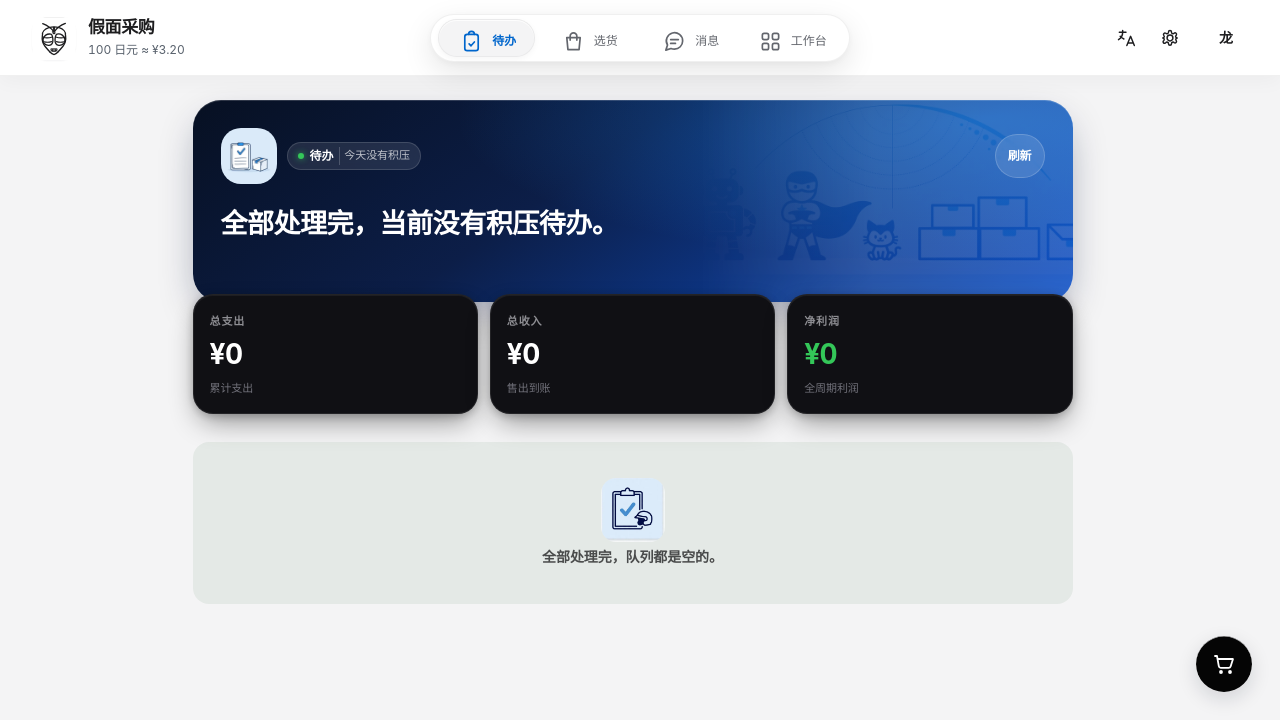
Scenario: Dashboard load error states › shows a retryable error when the catalog load fails, and recovers on retry
The width and height of the screenshot is (1280, 720).
Click the button with aria-label "选货". click: {"x": 589, "y": 41}
box: x1=538 y1=19 x2=640 y2=63
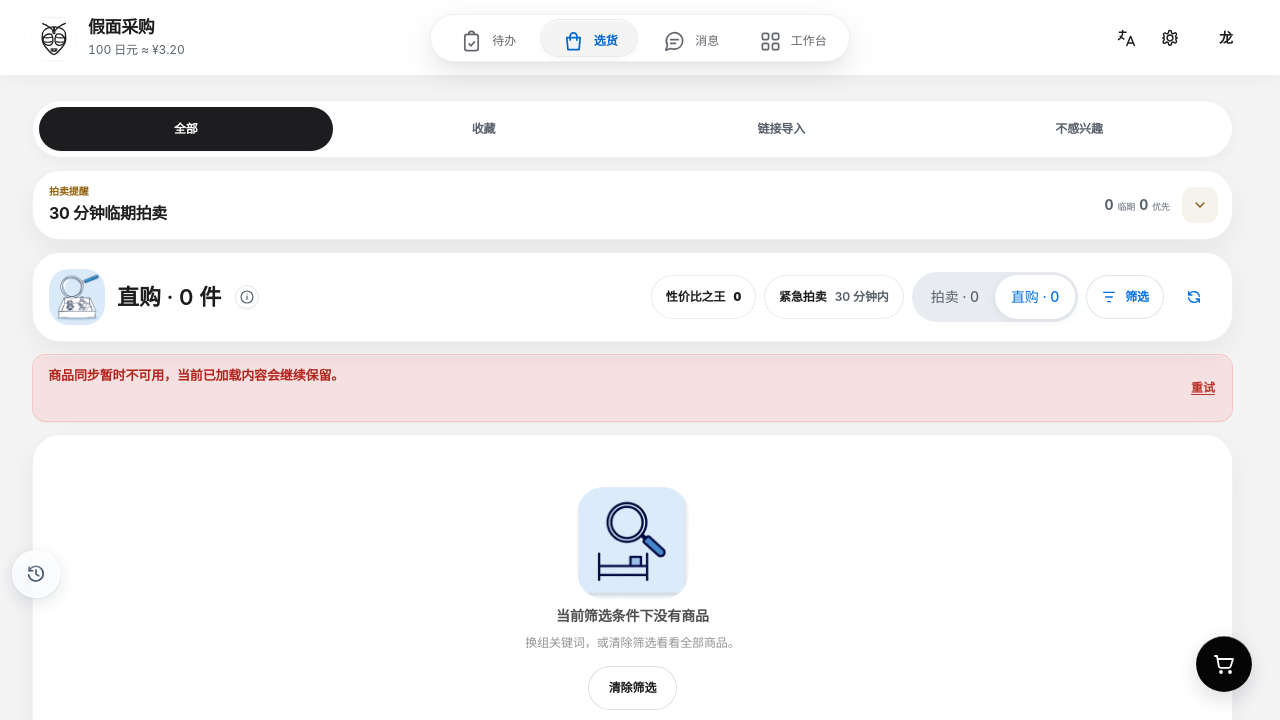
Expected: the element named "在售商品类型" is shown, x1=912 y1=272 x2=1078 y2=322
Expected: the message "商品同步暂时不可用，当前已加载内容会继续保留。 重试" is shown, x1=32 y1=354 x2=1233 y2=422
Expected: the message with test id "load-error" shows "商品同步暂时不可用", x1=48 y1=367 x2=344 y2=383
Click the button with test id "retry-catalog". click: {"x": 1203, "y": 388}
box: x1=1189 y1=366 x2=1217 y2=410
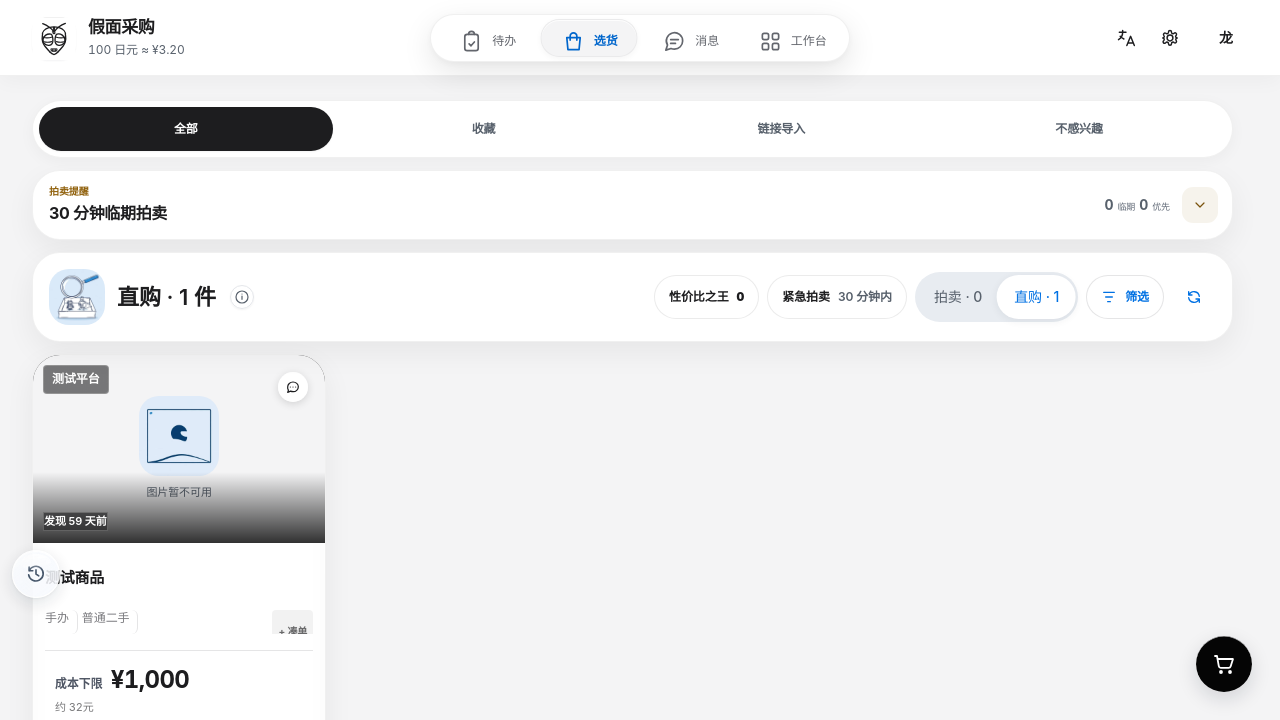
Expected: the text "测试商品" is shown, x1=45 y1=554 x2=313 y2=602
Expected: the message with test id "load-error" is gone
